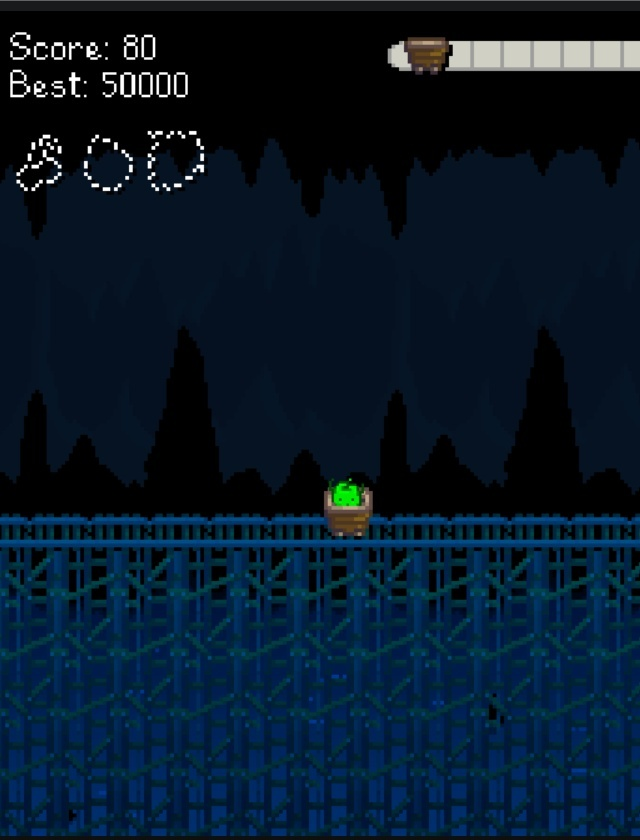minecart: (324, 478, 371, 535)
score: (119, 29, 160, 63)
tracks: (0, 506, 321, 558)
